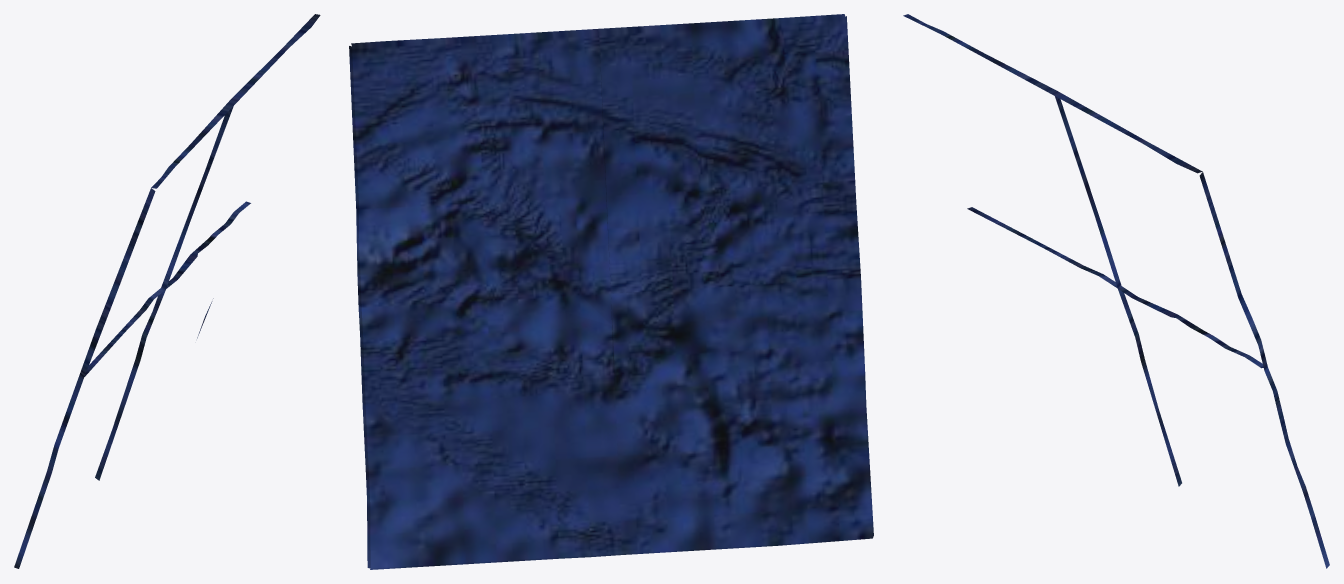
3 renders of one model, left to right at view 1: azimuth 30°, elevation 25°; view 2: azimuth 150°, elevation 25°; view 3: azimuth 270°, elevation 25°, orthographic. The views are drawn at different scales.
Size of the model in its own units: 298298 by 299562 by 265727.
Materials: 1 (1 with a texture image).
